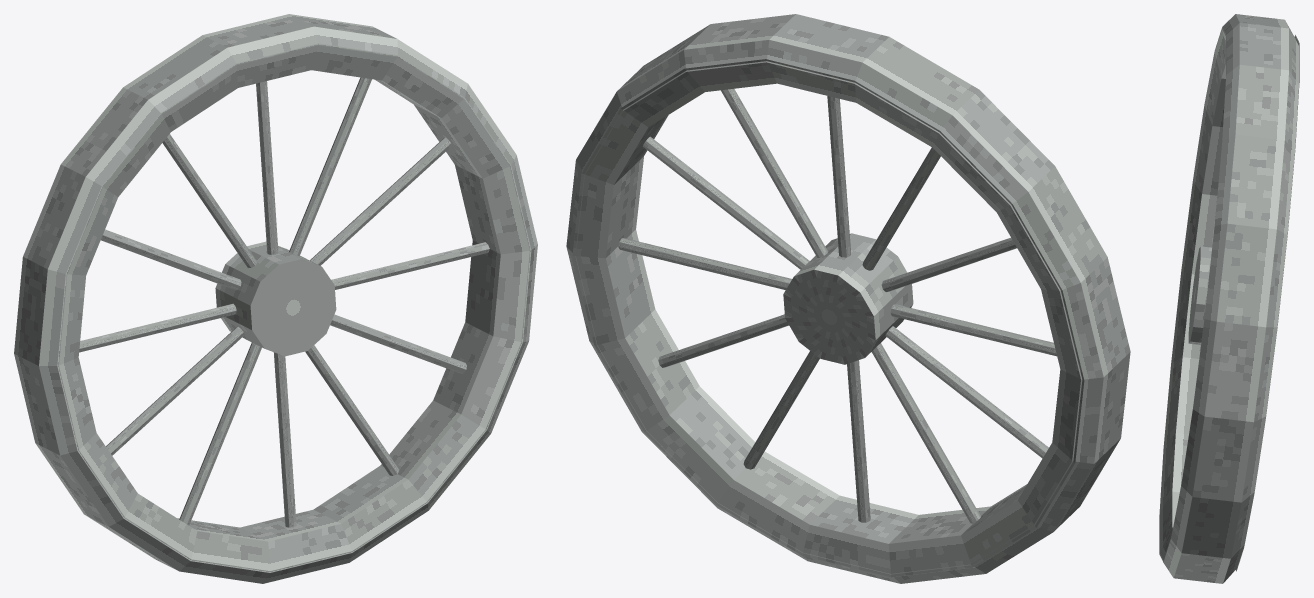
File: wheel_rim_bicycle.glb
3 renders of one model, left to right at view 1: azimuth 30°, elevation 25°; view 2: azimuth 150°, elevation 25°; view 3: azimuth 270°, elevation 25°, orthographic. The views are drawn at different scales.
Parts seen in each view (by area): view 1: block_wheel cross section, block_radial spoke (×12), block_wheel hub; view 2: block_wheel cross section, block_radial spoke (×12), block_wheel hub; view 3: block_wheel cross section, block_wheel hub.
Part boxes in pixels (bbox=[...]): block_wheel cross section: bbox=[14, 14, 537, 583]; block_radial spoke (×12): bbox=[79, 77, 489, 527]; block_wheel hub: bbox=[215, 241, 336, 356]; block_wheel cross section: bbox=[566, 14, 1130, 583]; block_radial spoke (×12): bbox=[618, 89, 1056, 523]; block_wheel hub: bbox=[783, 233, 913, 364]; block_wheel cross section: bbox=[1159, 14, 1299, 583]; block_wheel hub: bbox=[1188, 246, 1211, 344].
Bounding box in the file's own units: 0.686 × 0.6778 × 0.1685.
1 material, 1 textured.
